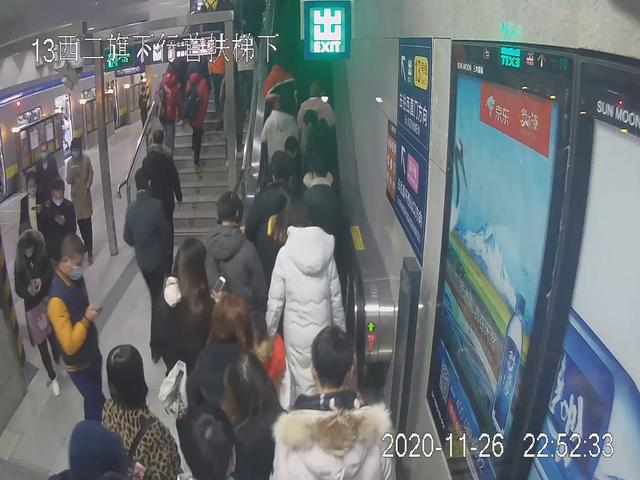person: (266, 196, 347, 462), (147, 237, 235, 465), (275, 327, 400, 480), (185, 298, 281, 478), (45, 227, 105, 437), (118, 164, 174, 368), (200, 191, 266, 344), (139, 128, 183, 268), (18, 166, 56, 284), (41, 174, 79, 291), (64, 138, 94, 265), (177, 60, 207, 179), (154, 65, 180, 173)
